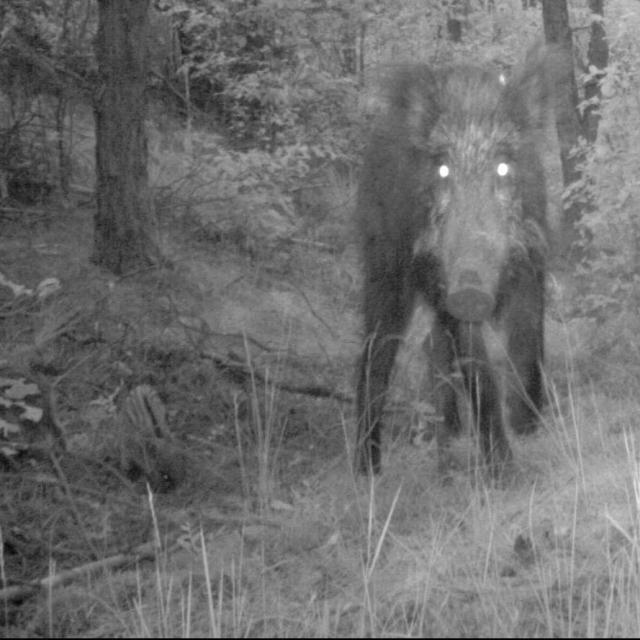pig: (362, 30, 590, 469)
